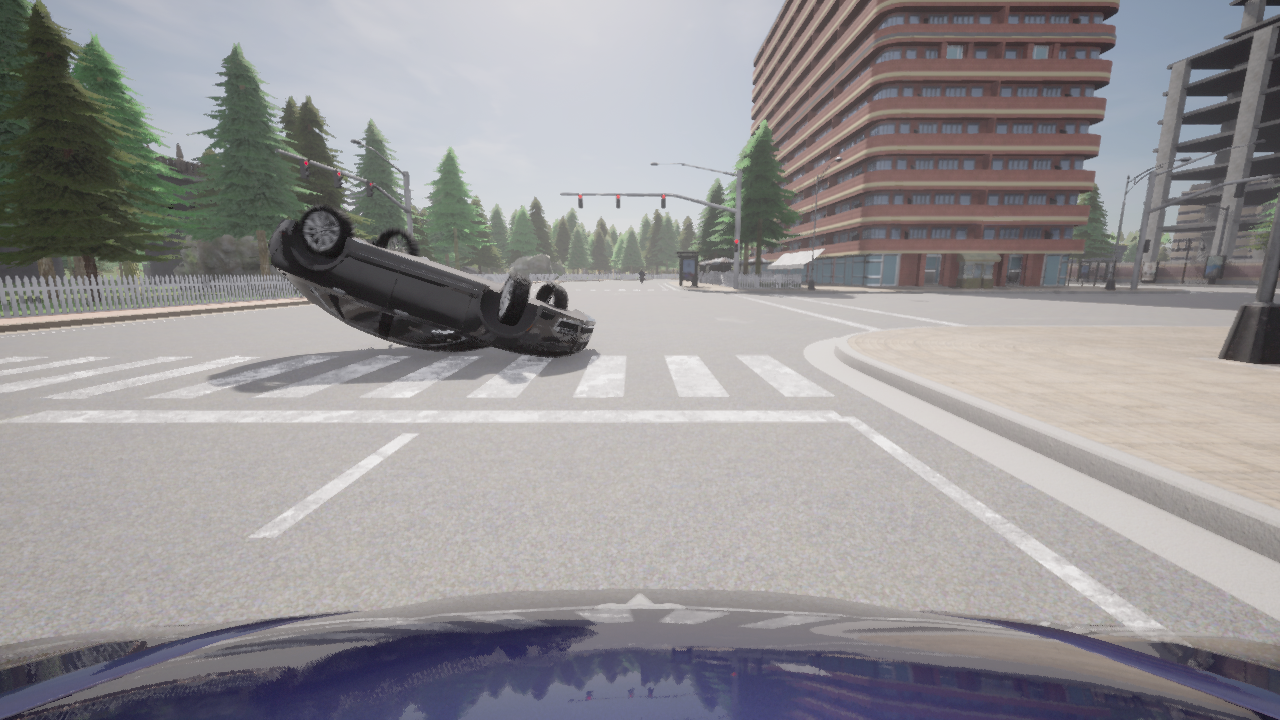cyclist: (0, 588, 1279, 719), (268, 205, 596, 356), (641, 277, 644, 283)
